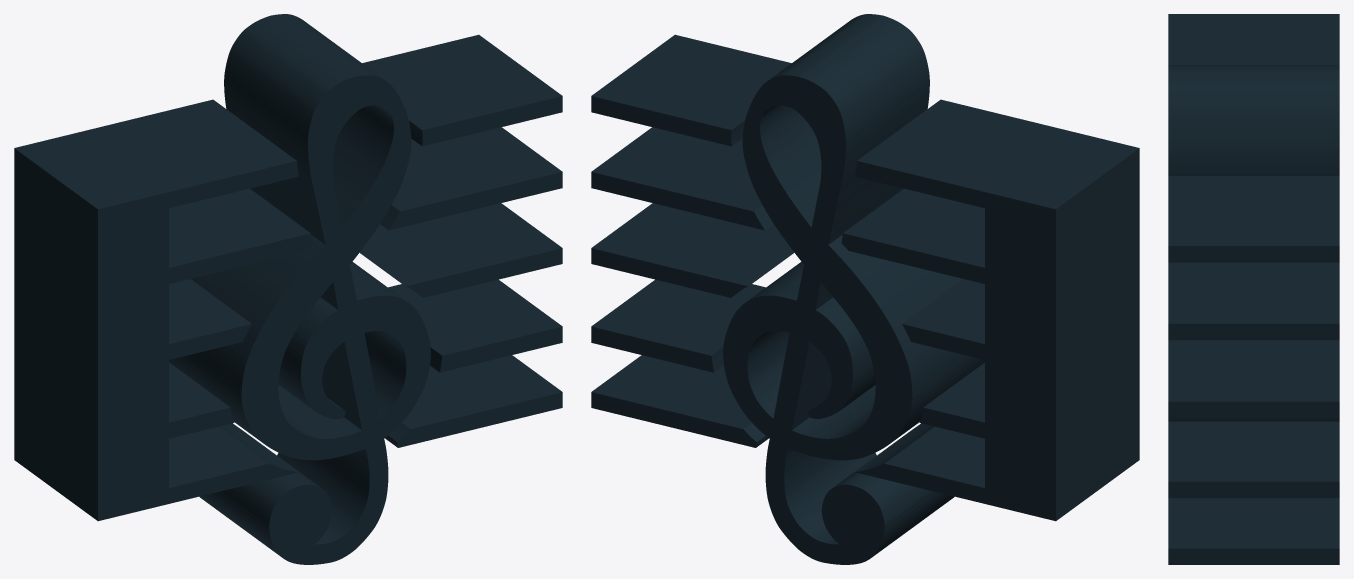
The picture shows the model from 3 angles, left to right: view 1: azimuth 30°, elevation 25°; view 2: azimuth 150°, elevation 25°; view 3: azimuth 270°, elevation 25°; orthographic projection. The views are drawn at different scales.
Parts seen in each view (by area): view 1: U+1F3BC_layer00_obj02, U+1F3BC_layer00_obj06, U+1F3BC_layer00_obj00, U+1F3BC_layer00_obj03, U+1F3BC_layer00_obj01, U+1F3BC_layer00_obj05, U+1F3BC_layer00_obj04; view 2: U+1F3BC_layer00_obj02, U+1F3BC_layer00_obj06, U+1F3BC_layer00_obj00, U+1F3BC_layer00_obj03, U+1F3BC_layer00_obj01, U+1F3BC_layer00_obj05, U+1F3BC_layer00_obj04; view 3: U+1F3BC_layer00_obj06, U+1F3BC_layer00_obj00, U+1F3BC_layer00_obj01, U+1F3BC_layer00_obj03, U+1F3BC_layer00_obj05, U+1F3BC_layer00_obj04, U+1F3BC_layer00_obj02.
Part boxes in pixels (bbox=[...]): U+1F3BC_layer00_obj02: bbox=[14, 99, 312, 521]; U+1F3BC_layer00_obj06: bbox=[169, 14, 430, 564]; U+1F3BC_layer00_obj00: bbox=[362, 34, 562, 146]; U+1F3BC_layer00_obj03: bbox=[359, 203, 562, 297]; U+1F3BC_layer00_obj01: bbox=[380, 127, 562, 230]; U+1F3BC_layer00_obj05: bbox=[388, 279, 562, 372]; U+1F3BC_layer00_obj04: bbox=[385, 355, 562, 447]; U+1F3BC_layer00_obj02: bbox=[841, 99, 1139, 521]; U+1F3BC_layer00_obj06: bbox=[723, 14, 984, 564]; U+1F3BC_layer00_obj00: bbox=[591, 34, 791, 146]; U+1F3BC_layer00_obj03: bbox=[591, 203, 794, 297]; U+1F3BC_layer00_obj01: bbox=[591, 127, 773, 230]; U+1F3BC_layer00_obj05: bbox=[591, 279, 765, 372]; U+1F3BC_layer00_obj04: bbox=[591, 355, 768, 447]; U+1F3BC_layer00_obj06: bbox=[1168, 65, 1339, 421]; U+1F3BC_layer00_obj00: bbox=[1168, 176, 1339, 262]; U+1F3BC_layer00_obj01: bbox=[1168, 262, 1339, 340]; U+1F3BC_layer00_obj03: bbox=[1168, 340, 1339, 417]; U+1F3BC_layer00_obj05: bbox=[1168, 421, 1339, 498]; U+1F3BC_layer00_obj04: bbox=[1168, 498, 1339, 564]; U+1F3BC_layer00_obj02: bbox=[1168, 14, 1339, 64].
Size of the model in its own units: 0.3203 by 0.316 by 0.1.
